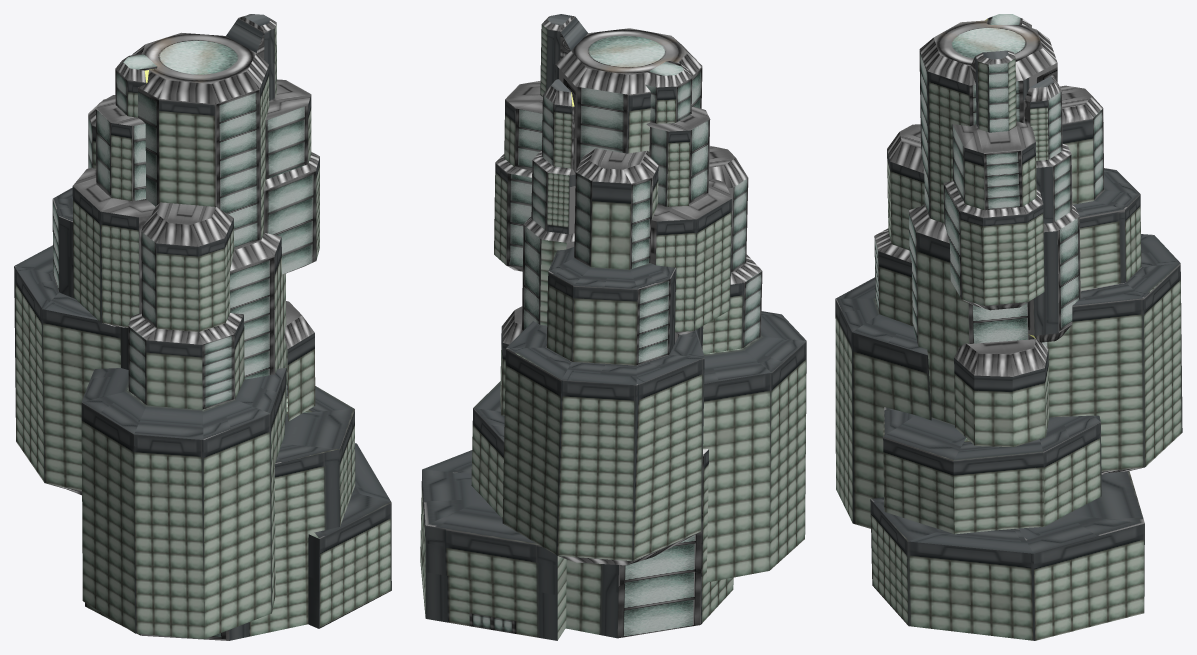
Rendered from High Rises.fbx.
3 views of the same model, side by side, from view 1: azimuth 30°, elevation 25°; view 2: azimuth 150°, elevation 25°; view 3: azimuth 270°, elevation 25° (orthographic). The views are drawn at different scales.
Parts seen in each view (by area): view 1: Cube.000; view 2: Cube.000; view 3: Cube.000.
Part boxes in pixels (x1,y1,x2,y2): Cube.000: [14, 14, 391, 640]; Cube.000: [420, 14, 806, 640]; Cube.000: [835, 14, 1182, 640].
Bounding box in the file's own units: 1430 × 2437 × 1437.
Materials: 3 (1 with a texture image).
